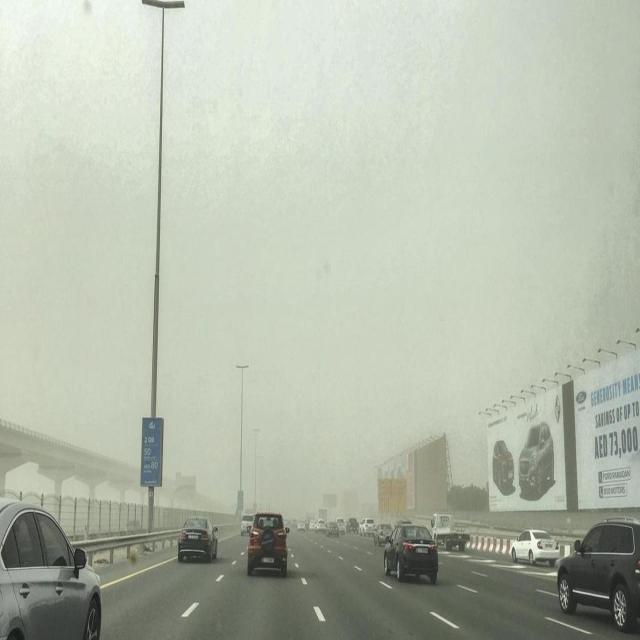Car: (0, 499, 101, 640), (557, 517, 640, 632), (384, 523, 440, 583), (246, 512, 290, 573), (519, 420, 553, 496), (178, 512, 220, 568), (511, 528, 561, 567), (492, 438, 514, 492), (373, 523, 393, 545), (360, 517, 374, 539), (240, 514, 253, 535), (327, 520, 338, 539), (315, 519, 326, 533), (337, 516, 345, 532), (297, 519, 305, 533), (309, 520, 317, 532)
Truck: (430, 512, 470, 552), (346, 518, 359, 534), (318, 508, 328, 521)
